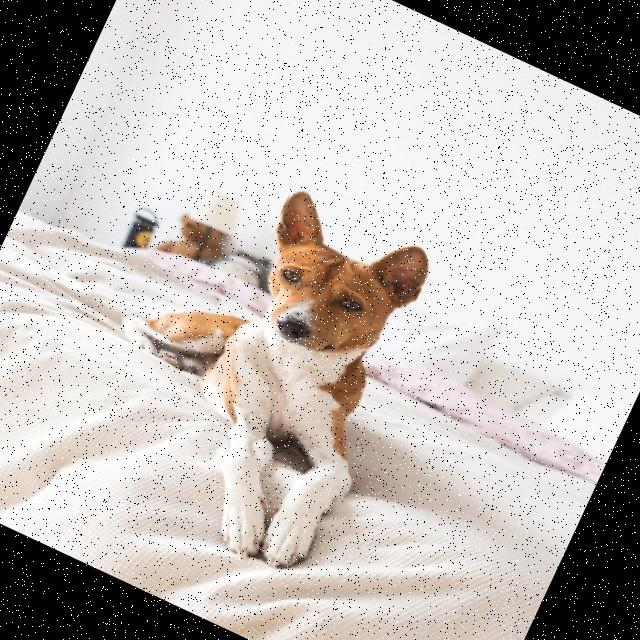Dog: (52, 144, 454, 586)
